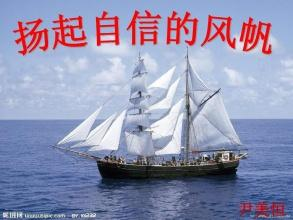fanchuan: (53, 48, 256, 177)
